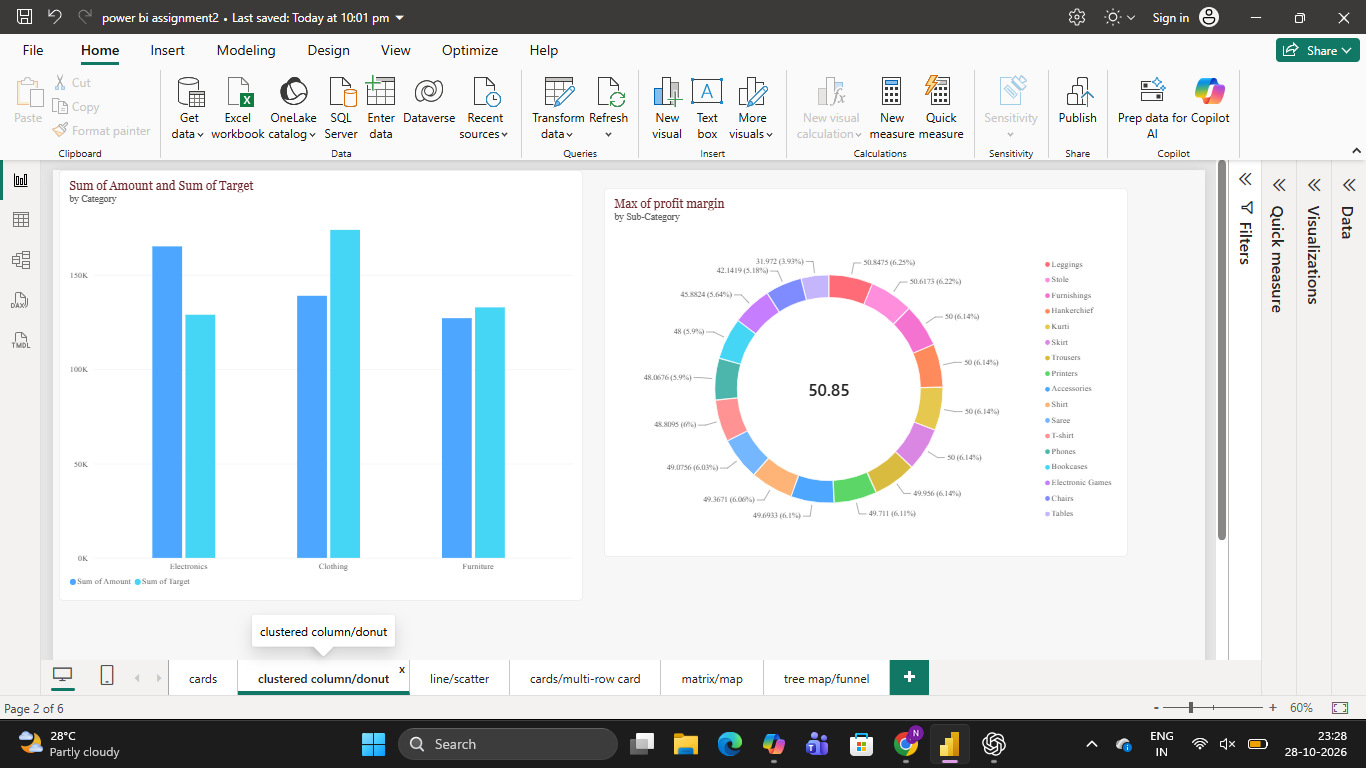

This screenshot's page, from the dashboard's own definition file:
{"tool":"powerbi","page":{"name":"clustered column/donut","canvas":[1920,1080],"ordinal":1},"visuals":[{"type":"clusteredColumnChart","fields":{"Category":["Order Details (1).Category"],"Y":["Sum(Order Details (1).Amount)","Sum(Sales target (1).Target)"]},"box":[10,0,872.5,717.5],"z":0},{"type":"donutChart","fields":{"Category":["Order Details (1).Sub-Category"],"Y":["Max(Order Details (1).profit margin)"]},"box":[917.5,30,872.5,615],"z":1}]}

Visuals, with their boxes on the page's 1920x1080 design canvas (x1, y1, x2, y2). These are canvas units, not pixel positions in the 1366x768 screenshot, which may show the page scaled, cropped or inside an application window:
clusteredColumnChart - Order Details (1).Category x Sum(Order Details (1).Amount): l=10, t=0, r=882, b=718
donutChart - Order Details (1).Sub-Category x Max(Order Details (1).profit margin): l=918, t=30, r=1790, b=645
